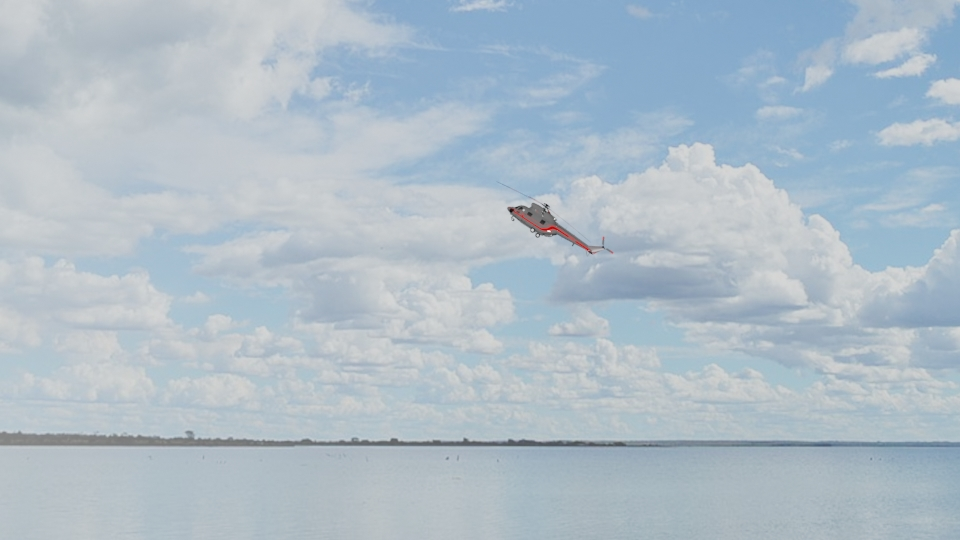heli: (505, 201, 613, 257)
